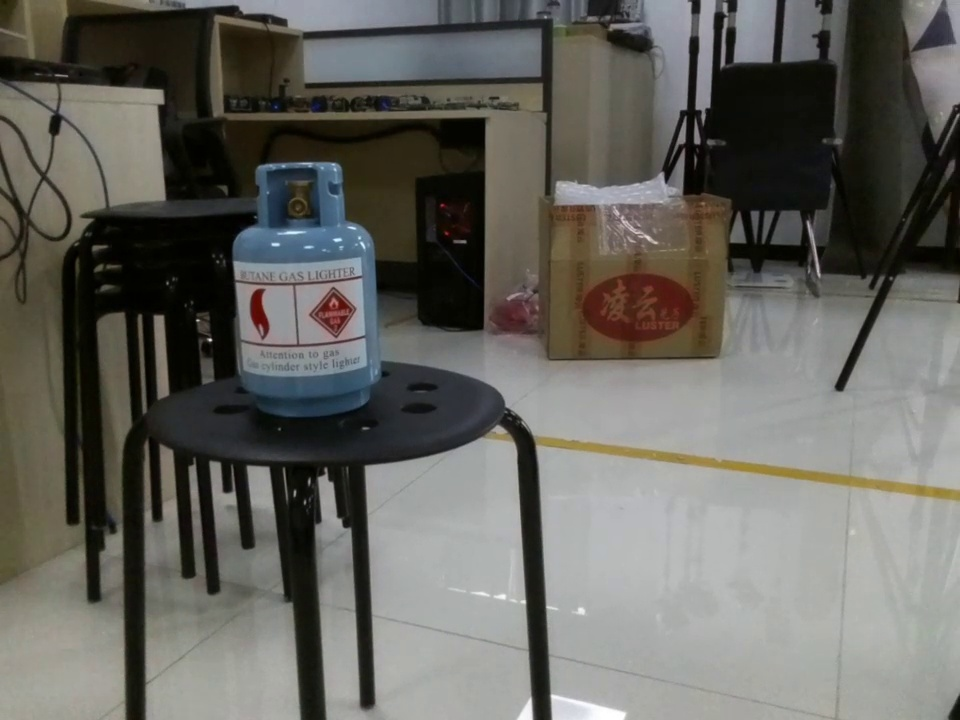gas tank: (233, 154, 383, 423)
